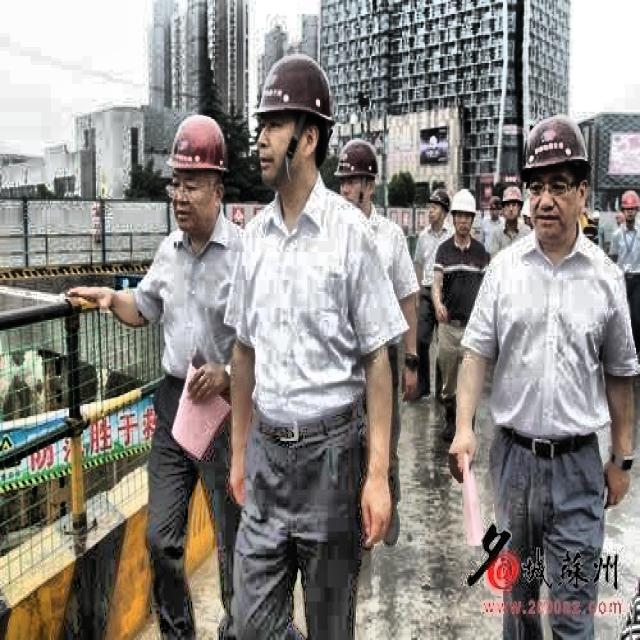helmet: (254, 46, 336, 198), (518, 110, 590, 240), (164, 110, 232, 238), (335, 131, 384, 215), (451, 182, 481, 236), (501, 178, 526, 228), (424, 185, 449, 231), (618, 186, 639, 234)
